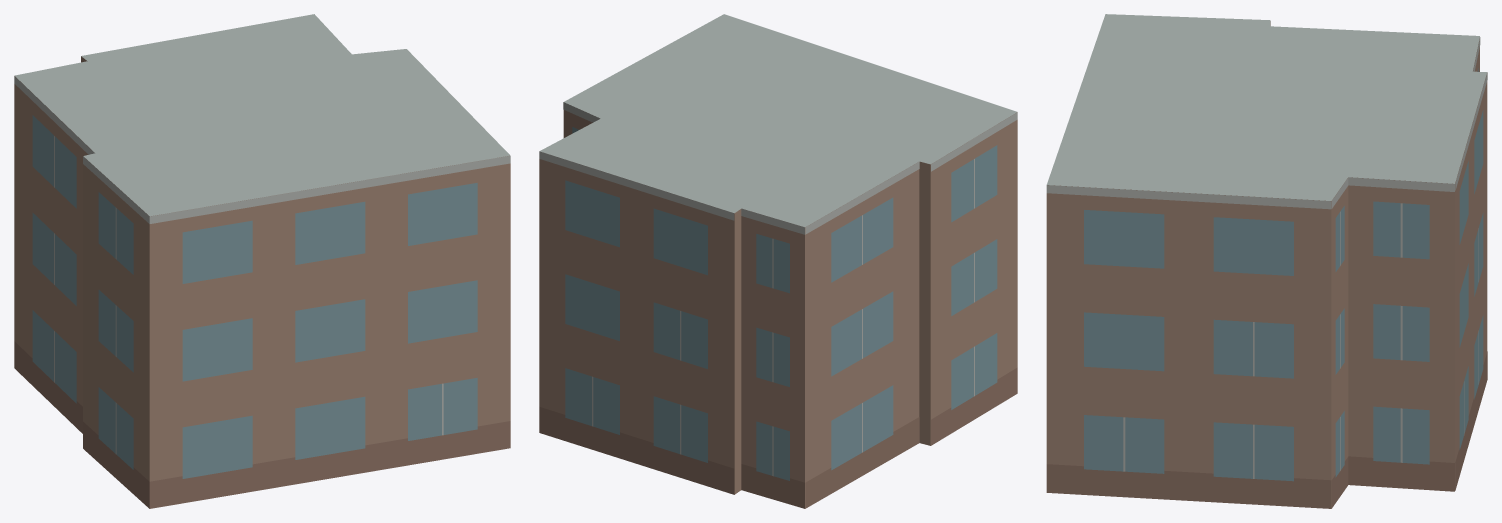
Rendered from survey-upis-32674453.glb.
3 renders of one model, left to right at view 1: azimuth 30°, elevation 25°; view 2: azimuth 150°, elevation 25°; view 3: azimuth 270°, elevation 25°, orthographic. The views are drawn at different scales.
Visible parts, largest first — view 1: survey-upis-32674453.tmp; view 2: survey-upis-32674453.tmp; view 3: survey-upis-32674453.tmp.
Part boxes in pixels (x1,y1,x2,y2): survey-upis-32674453.tmp: (14,14,510,508); survey-upis-32674453.tmp: (539,14,1017,508); survey-upis-32674453.tmp: (1046,14,1487,508).
Size of the model in its own units: 11.87 by 9.1 by 11.82.
